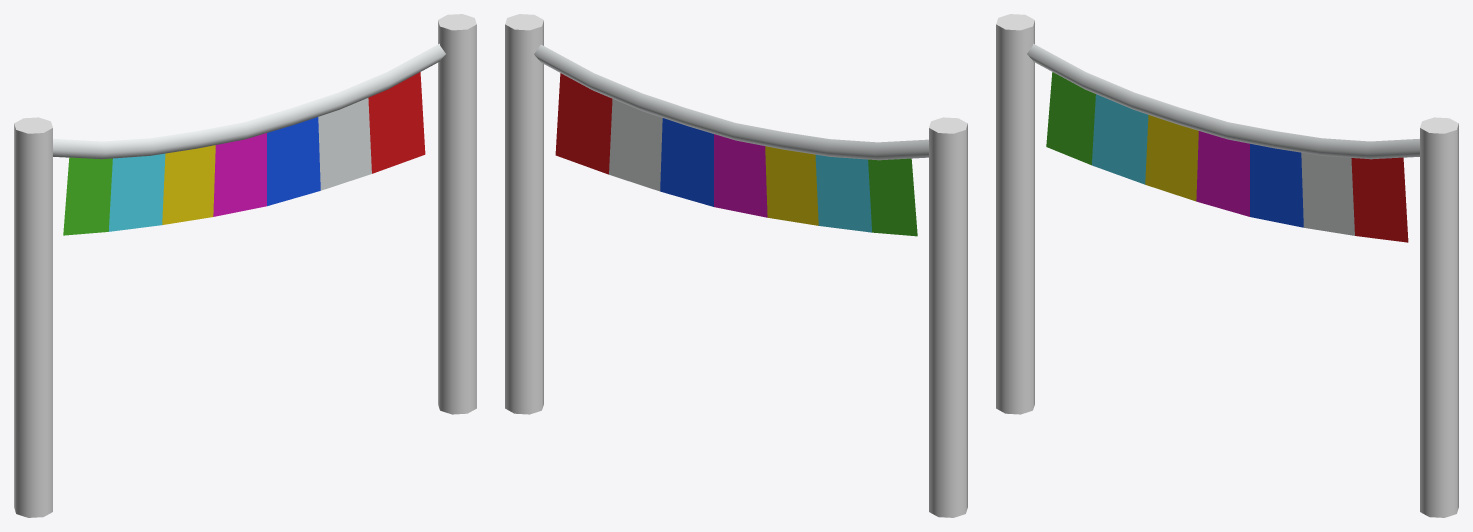
Rendered from flags01_s03.FBX.
3 renders of one model, left to right at view 1: azimuth 30°, elevation 25°; view 2: azimuth 150°, elevation 25°; view 3: azimuth 330°, elevation 25°, orthographic.
Visible parts, largest first — view 1: flags01_s03; view 2: flags01_s03; view 3: flags01_s03.
Boxes of the visible parts, x1,y1,x2,y2 form: flags01_s03: (14, 14, 476, 517); flags01_s03: (505, 14, 967, 517); flags01_s03: (996, 14, 1458, 517).
Size of the model in its own units: 424 by 32.22 by 339.
1 material, 1 textured.
